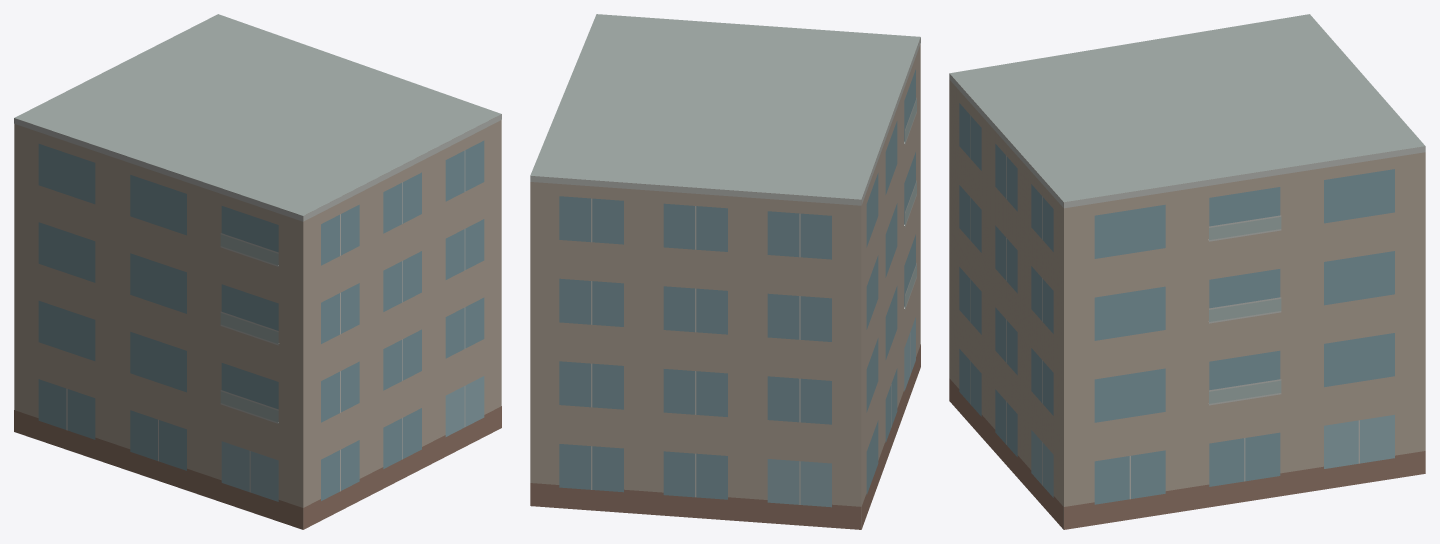
File: survey-upis-32847141.glb
3 renders of one model, left to right at view 1: azimuth 30°, elevation 25°; view 2: azimuth 150°, elevation 25°; view 3: azimuth 270°, elevation 25°, orthographic. The views are drawn at different scales.
Visible parts, largest first — view 1: survey-upis-32847141.tmp; view 2: survey-upis-32847141.tmp; view 3: survey-upis-32847141.tmp.
Boxes of the visible parts, x1=… form: survey-upis-32847141.tmp: x1=14, y1=14, x2=501, y2=529; survey-upis-32847141.tmp: x1=530, y1=14, x2=920, y2=529; survey-upis-32847141.tmp: x1=949, y1=14, x2=1425, y2=529.
Bounding box in the file's own units: 16.28 × 13.2 × 17.4.
